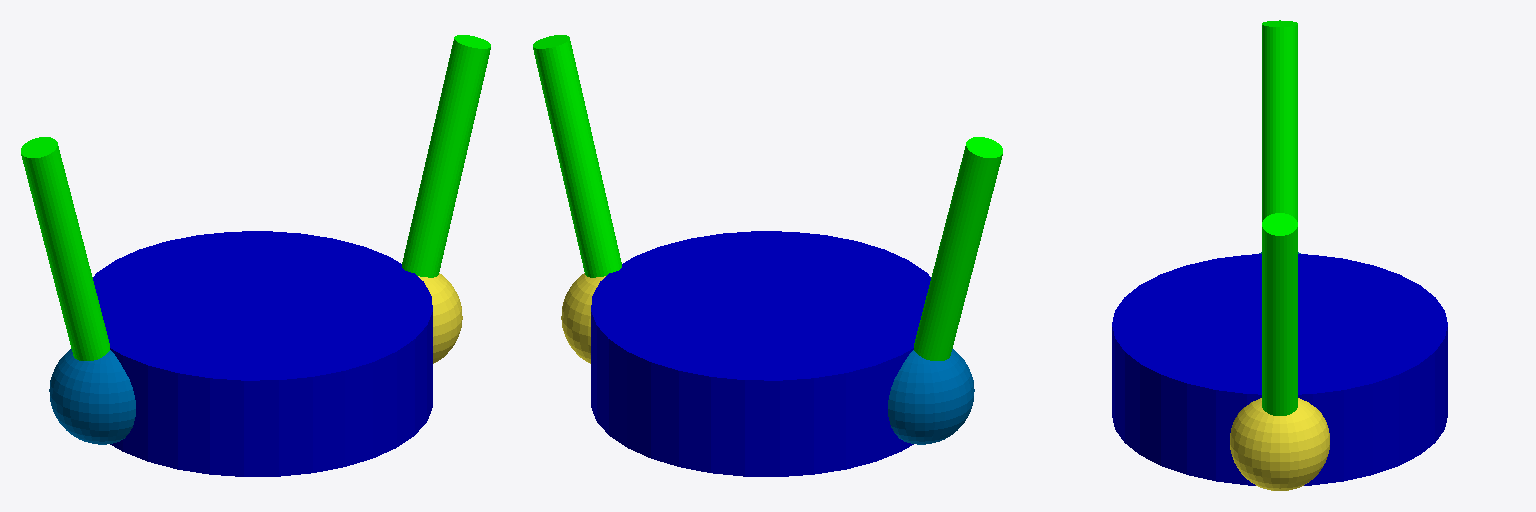
URDF robot description (gripper_2f_1j):
<?xml version='1.0' encoding='UTF-8'?>
<robot name="gripper_2f_1j">
  <link name="palm">
    <inertial>
      <origin xyz="0.0 0.0 0.0" rpy="0.0 -0.0 0.0"/>
      <mass value="1.0"/>
      <inertia ixx="1.0" ixy="0.0" ixz="0.0" iyy="1.0" iyz="0.0" izz="1.0"/>
    </inertial>
    <visual>
      <geometry>
        <cylinder radius="0.05" length="0.03"/>
      </geometry>
      <material name="blue"/>
      <origin xyz="0.0 0.0 0.0" rpy="0.0 -0.0 0.0"/>
    </visual>
    <collision>
      <geometry>
        <cylinder radius="0.05" length="0.03"/>
      </geometry>
      <origin xyz="0.0 0.0 0.0" rpy="0.0 0.0 0.0"/>
    </collision>
  </link>
  <link name="f11">
    <inertial>
      <origin xyz="0.0 0.0 0.0" rpy="0.0 -0.0 0.0"/>
      <mass value="1.0"/>
      <inertia ixx="1.0" ixy="0.0" ixz="0.0" iyy="1.0" iyz="0.0" izz="1.0"/>
    </inertial>
    <visual>
      <geometry>
        <cylinder radius="0.0053955310711639075" length="0.08328211028707128"/>
      </geometry>
      <material name="green"/>
      <origin xyz="0.0 0.0 0.04164105514353564" rpy="0.0 -0.0 0.0"/>
    </visual>
    <collision>
      <geometry>
        <cylinder radius="0.0053955310711639075" length="0.08328211028707128"/>
      </geometry>
      <origin xyz="0.0 0.0 0.05" rpy="0.0 0.0 0.0"/>
    </collision>
  </link>
  <link name="f21">
    <inertial>
      <origin xyz="0.0 0.0 0.0" rpy="0.0 -0.0 0.0"/>
      <mass value="1.0"/>
      <inertia ixx="1.0" ixy="0.0" ixz="0.0" iyy="1.0" iyz="0.0" izz="1.0"/>
    </inertial>
    <visual>
      <geometry>
        <cylinder radius="0.0053955310711639075" length="0.08328211028707128"/>
      </geometry>
      <material name="green"/>
      <origin xyz="0.0 0.0 0.04164105514353564" rpy="0.0 -0.0 0.0"/>
    </visual>
    <collision>
      <geometry>
        <cylinder radius="0.0053955310711639075" length="0.08328211028707128"/>
      </geometry>
      <origin xyz="0.0 0.0 0.05" rpy="0.0 0.0 0.0"/>
    </collision>
  </link>
  <link name="f11_base">
    <inertial>
      <origin xyz="0.0 0.0 0.0" rpy="0.0 -0.0 0.0"/>
      <mass value="1.0"/>
      <inertia ixx="1.0" ixy="0.0" ixz="0.0" iyy="1.0" iyz="0.0" izz="1.0"/>
    </inertial>
    <visual>
      <geometry>
        <sphere radius="0.015"/>
      </geometry>
      <origin xyz="0.0 0.0 0.0" rpy="0.0 -0.0 0.0"/>
    </visual>
  </link>
  <link name="f21_base">
    <inertial>
      <origin xyz="0.0 0.0 0.0" rpy="0.0 -0.0 0.0"/>
      <mass value="1.0"/>
      <inertia ixx="1.0" ixy="0.0" ixz="0.0" iyy="1.0" iyz="0.0" izz="1.0"/>
    </inertial>
    <visual>
      <geometry>
        <sphere radius="0.015"/>
      </geometry>
      <origin xyz="0.0 0.0 0.0" rpy="0.0 -0.0 0.0"/>
    </visual>
  </link>
  <joint name="f11_joint" type="revolute">
    <dynamics damping="100.0" friction="1.0"/>
    <limit effort="30.0" velocity="2.0" lower="-0.6" upper="0.25"/>
    <parent link="f11_base"/>
    <child link="f11"/>
    <axis xyz="0. 1. 0."/>
    <origin xyz="0.0 0.0 0.0" rpy="0.0 0.25 0.0"/>
  </joint>
  <joint name="f21_joint" type="revolute">
    <dynamics damping="100.0" friction="1.0"/>
    <limit effort="30.0" velocity="2.0" lower="-0.6" upper="0.25"/>
    <parent link="f21_base"/>
    <child link="f21"/>
    <axis xyz=" 0. -1.  0."/>
    <origin xyz="0.0 0.0 0.0" rpy="0.0 -0.25 0.0"/>
  </joint>
  <joint name="f11_base_joint" type="fixed">
    <parent link="palm"/>
    <child link="f11_base"/>
    <axis xyz="1. 0. 0."/>
    <origin xyz="0.05 0.0 0.0" rpy="0.0 0.0 0.0"/>
  </joint>
  <joint name="f21_base_joint" type="fixed">
    <parent link="palm"/>
    <child link="f21_base"/>
    <axis xyz="1. 0. 0."/>
    <origin xyz="-0.05 -0.0 0.0" rpy="0.0 0.0 0.0"/>
  </joint>
  <material name="blue">
    <color rgba="0.  0.  0.8 1. "/>
  </material>
  <material name="green">
    <color rgba="0. 1. 0. 1."/>
  </material>
</robot>

--- Facts derived from the render (not from the file) ---
Views: 3 orthographic renders of the robot side by side, from view 1: azimuth 30°, elevation 25°; view 2: azimuth 150°, elevation 25°; view 3: azimuth 270°, elevation 25°.
Robot: gripper_2f_1j — 5 links, 4 joints (2 revolute, 2 fixed); root link palm; default pose: every joint at zero.
Visible links, largest first — view 1: palm, f11, f21, f21_base, f11_base; view 2: palm, f11, f21, f21_base, f11_base; view 3: palm, f11, f11_base, f21.
Link boxes in pixels (x1=…): palm: x1=93, y1=231, x2=432, y2=476; f11: x1=402, y1=35, x2=490, y2=277; f21: x1=21, y1=137, x2=109, y2=360; f21_base: x1=49, y1=349, x2=135, y2=444; f11_base: x1=418, y1=273, x2=462, y2=363; palm: x1=591, y1=231, x2=930, y2=476; f11: x1=533, y1=35, x2=621, y2=277; f21: x1=914, y1=137, x2=1002, y2=360; f21_base: x1=888, y1=349, x2=974, y2=444; f11_base: x1=561, y1=273, x2=605, y2=363; palm: x1=1112, y1=254, x2=1447, y2=485; f11: x1=1262, y1=213, x2=1297, y2=415; f11_base: x1=1230, y1=398, x2=1329, y2=490; f21: x1=1262, y1=20, x2=1297, y2=221.
Size in the robot's own frame: 0.1517 by 0.1 by 0.097 metres.
Geometry: primitives only (box / cylinder / sphere), no mesh files.